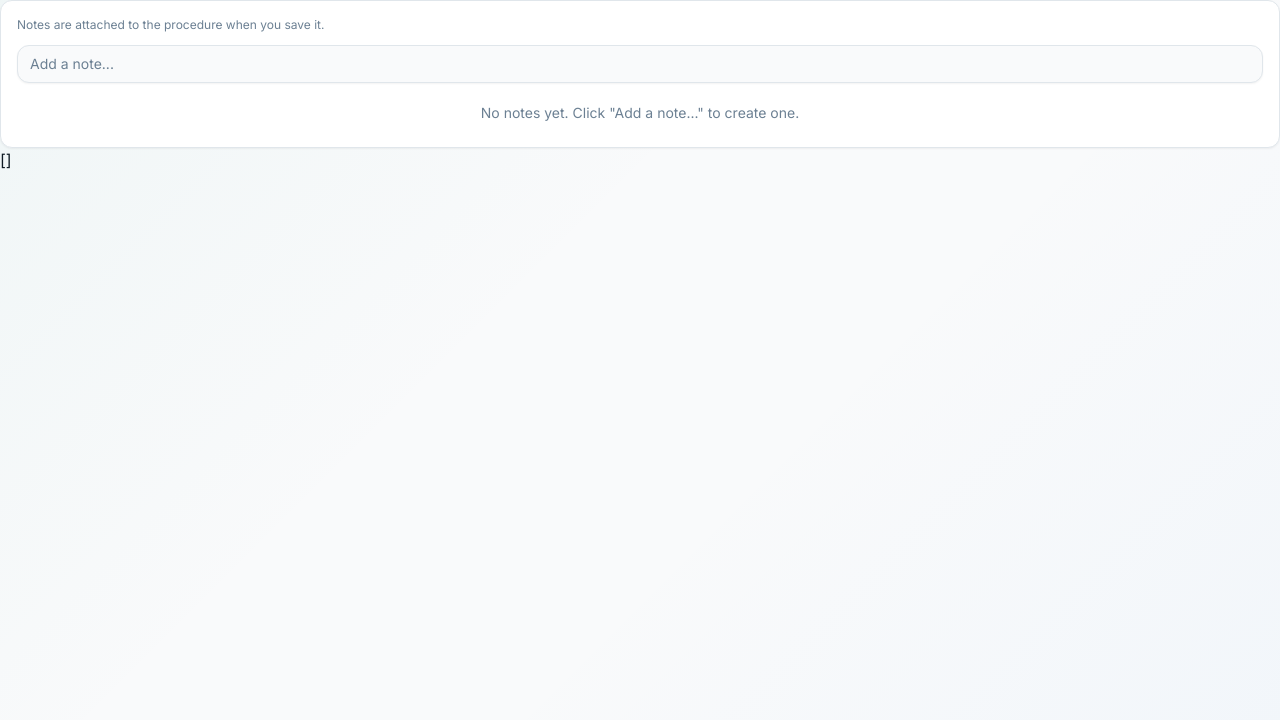
StickyNotes - draft mode › shows an added note as a card and does not duplicate it while composing
Click the button "Add a note...".
click(72, 64)  # box [17, 45, 1263, 83]
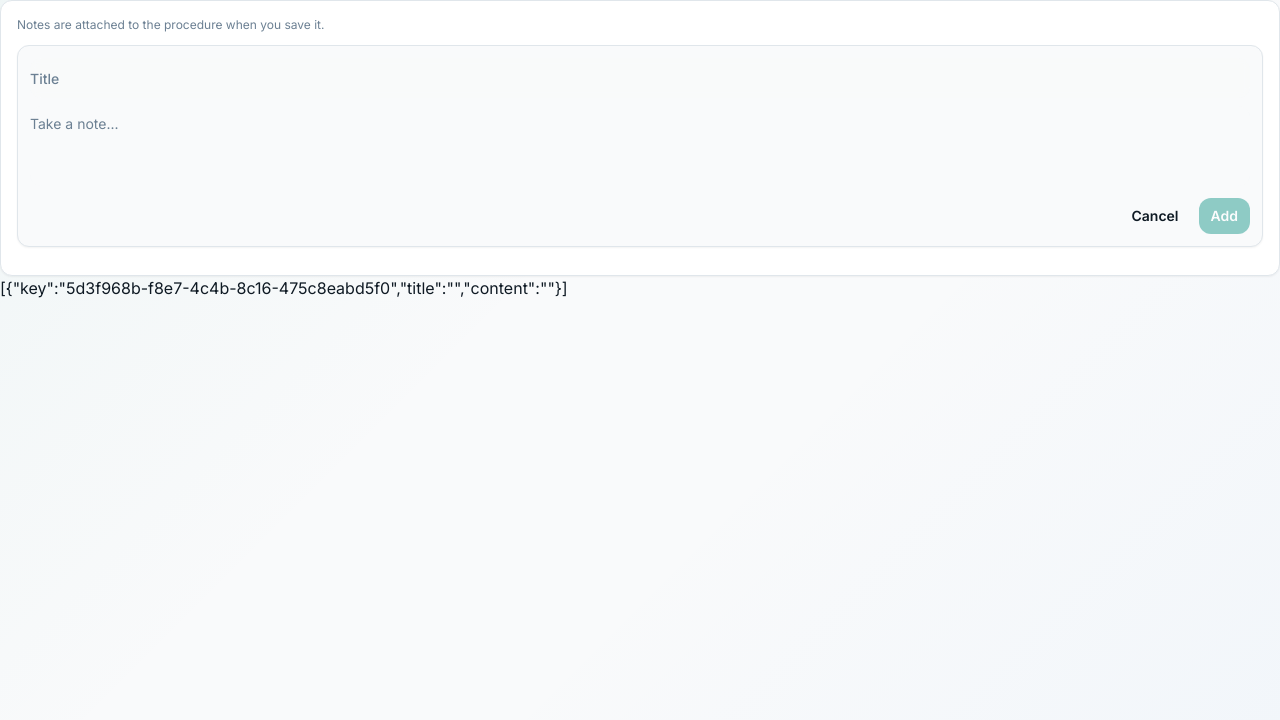
Type "First note" into the text box with placeholder "Take a note...".
click(640, 146); type("First note")  # box [30, 106, 1250, 186]
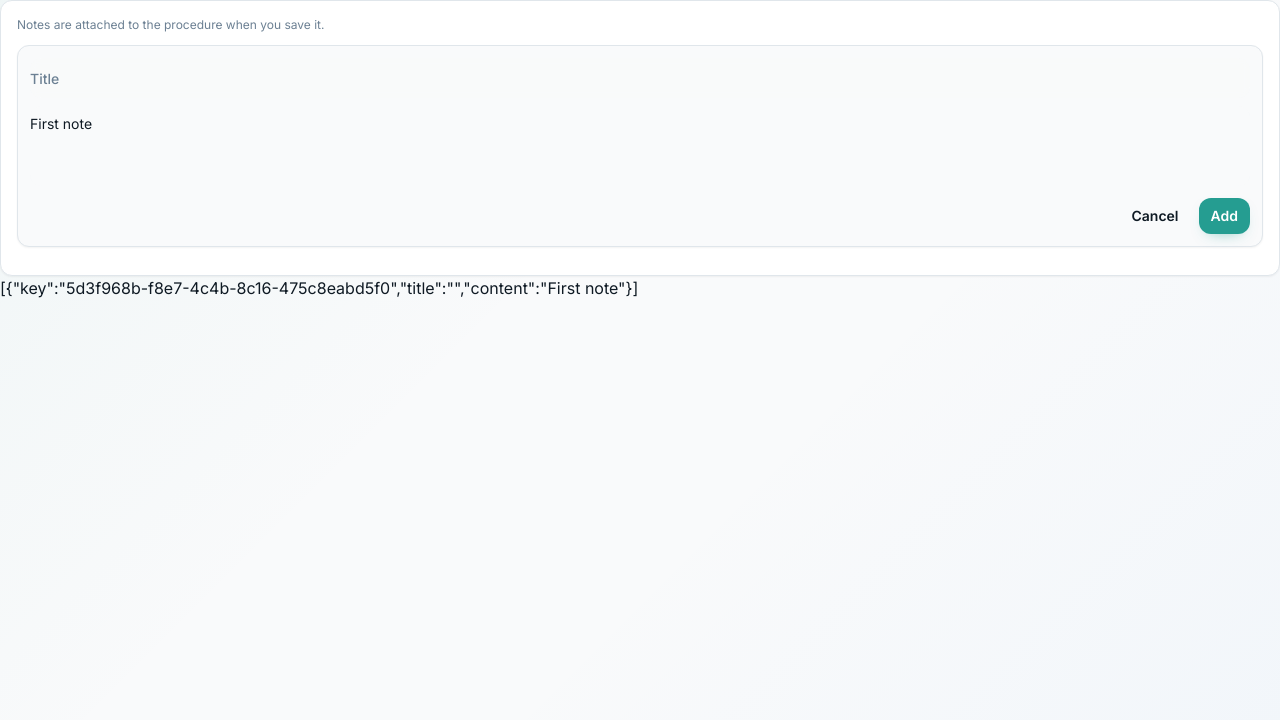
Click the button "Add".
click(1224, 216)  # box [1198, 198, 1250, 234]
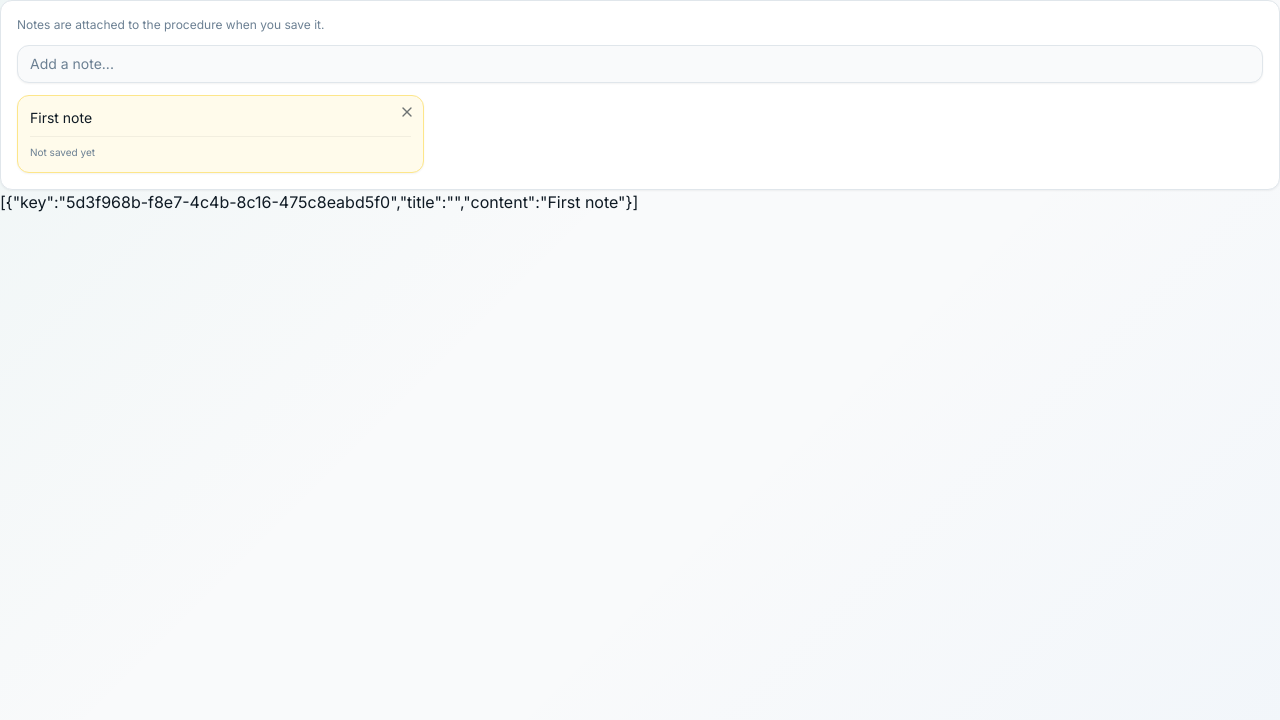
Expected: the text "First note" is shown once, [30, 109, 92, 126]
Expected: the text "Not saved yet" is shown, [30, 136, 411, 160]
